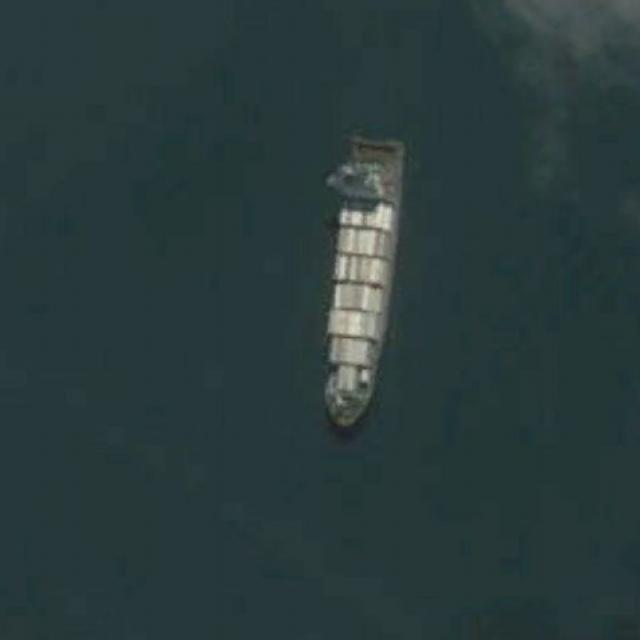ship: (318, 127, 406, 431)
